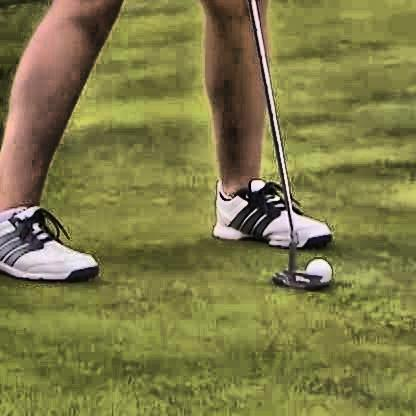golfball: (301, 255, 326, 283)
